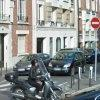Motorcycle: (5, 61, 71, 100)
